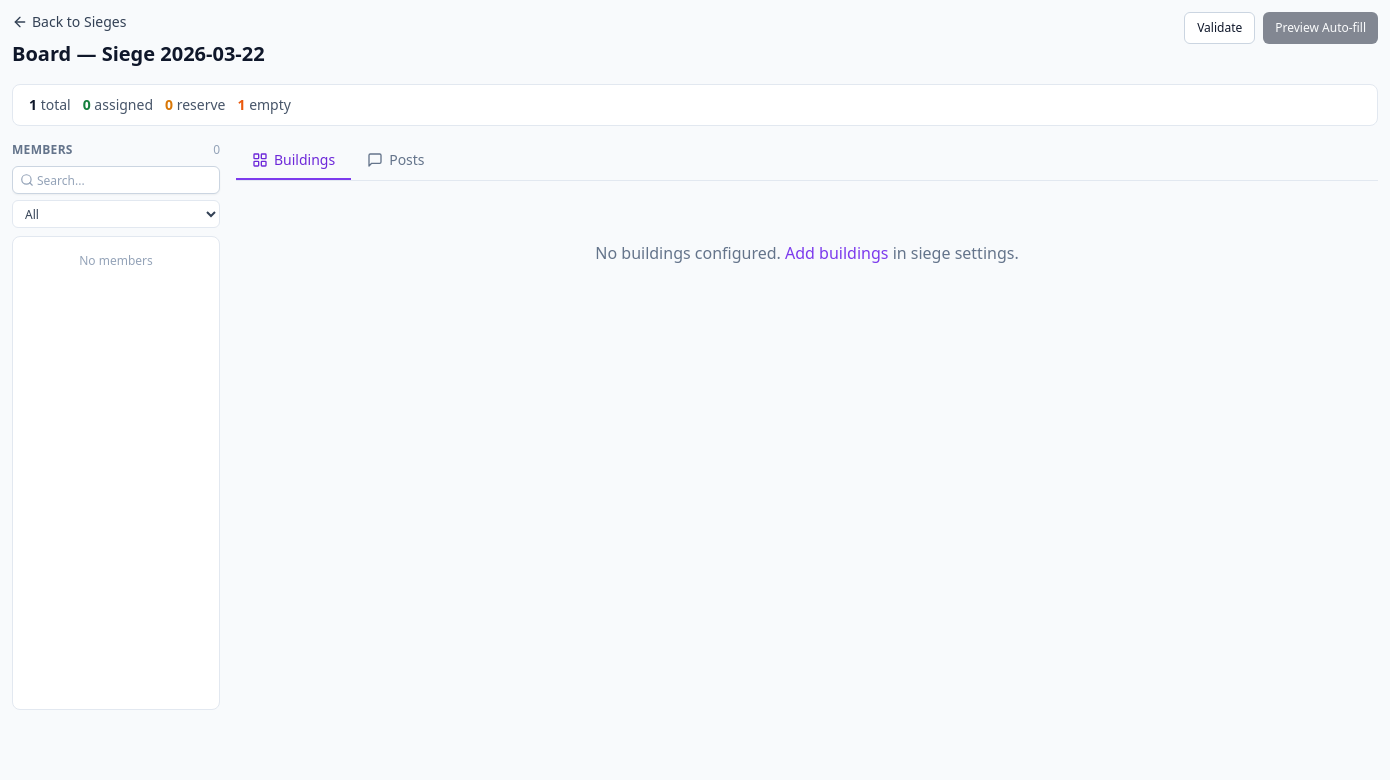
Test: PostsTab — Suggest Assignments toolbar › Suggest Assignments button is disabled when siege is locked
What coordinates should you click on to do the following:
click the button "Posts"
I would click on:
 (396, 161)
Its box is [351, 142, 441, 180].
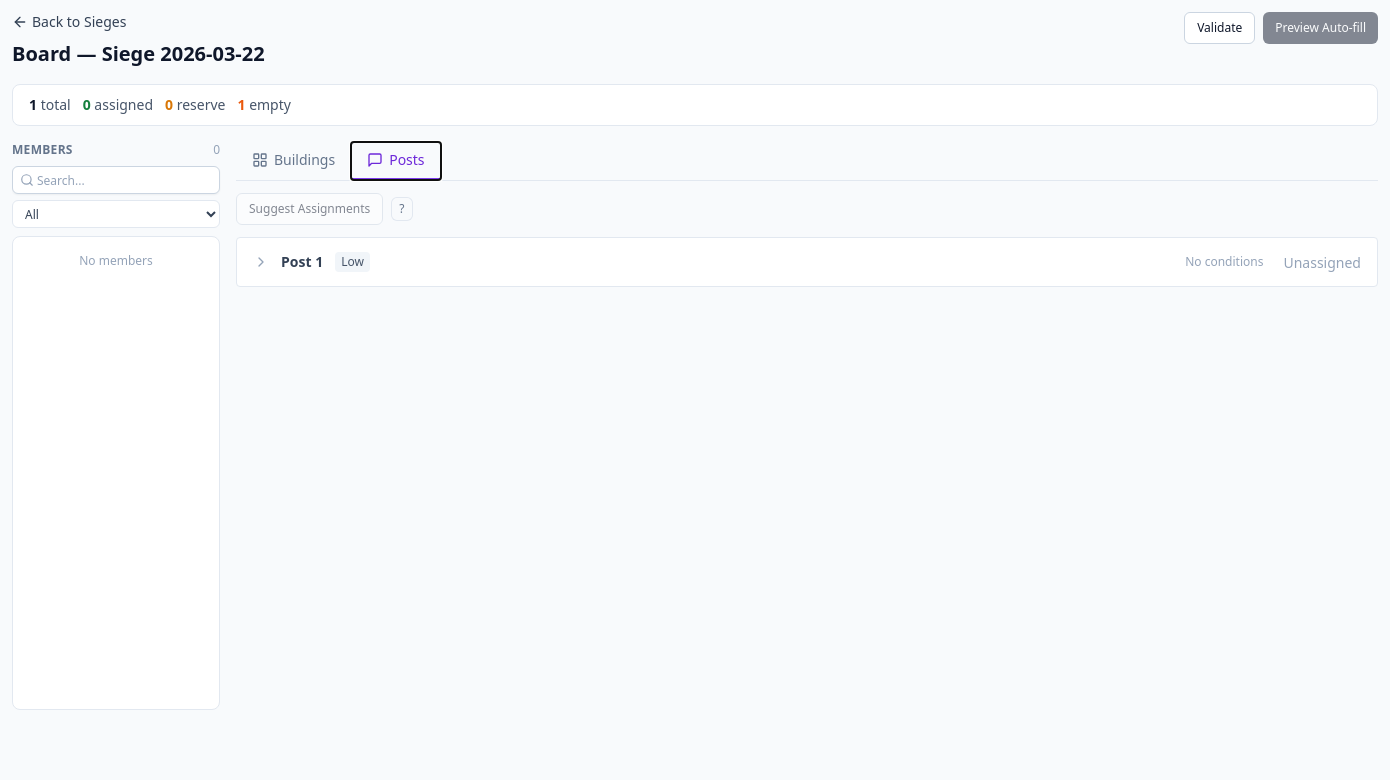
Now the button "Suggest Assignments" is disabled, box [236, 193, 383, 225]
